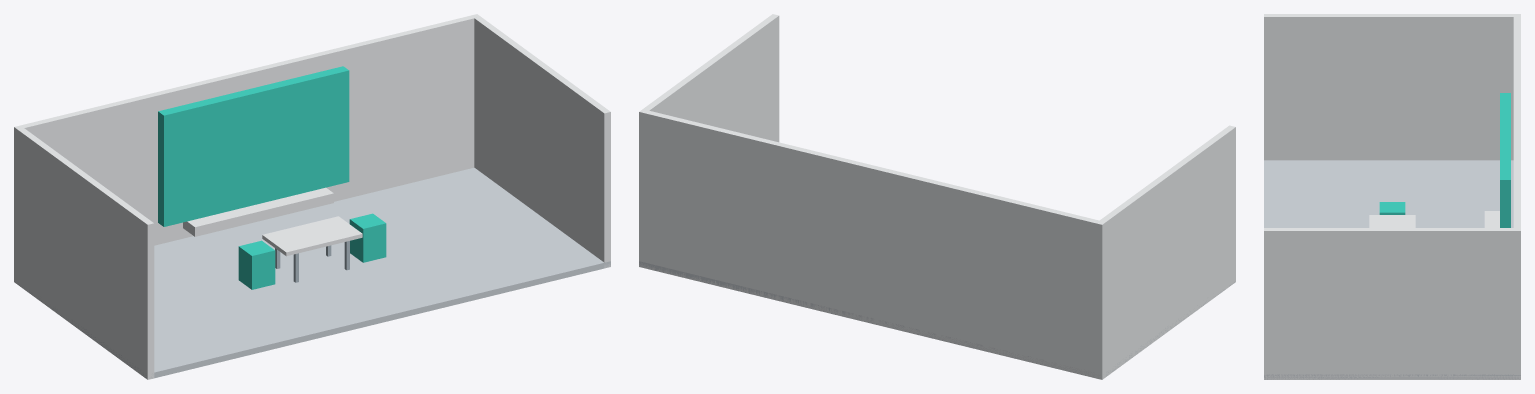
The picture shows the model from 3 angles, left to right: view 1: azimuth 30°, elevation 25°; view 2: azimuth 150°, elevation 25°; view 3: azimuth 270°, elevation 25°; orthographic projection. The views are drawn at different scales.
Visible parts, largest first — view 1: Exhibition Booth Concept; view 2: Exhibition Booth Concept; view 3: Exhibition Booth Concept.
Boxes of the visible parts, x1=… form: Exhibition Booth Concept: x1=14, y1=14, x2=610, y2=379; Exhibition Booth Concept: x1=639, y1=14, x2=1235, y2=379; Exhibition Booth Concept: x1=1264, y1=14, x2=1520, y2=379.
Bounding box in the file's own units: 10 × 3.2 × 5.
